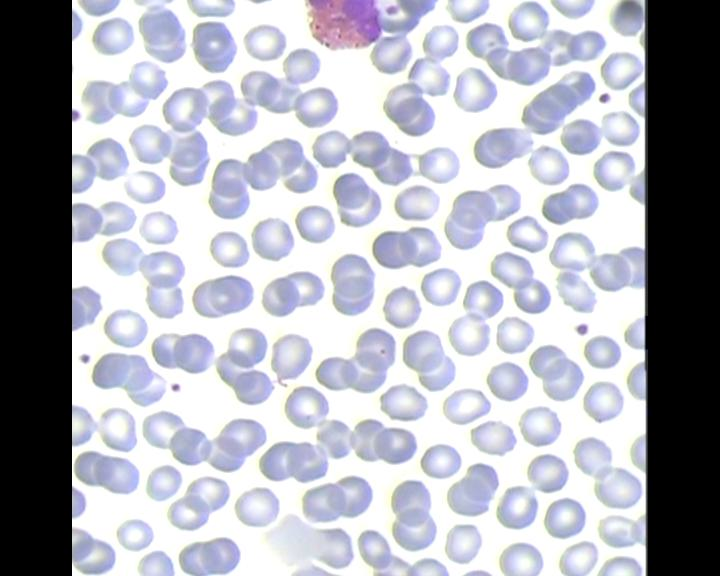eosi: (300, 0, 388, 54)
